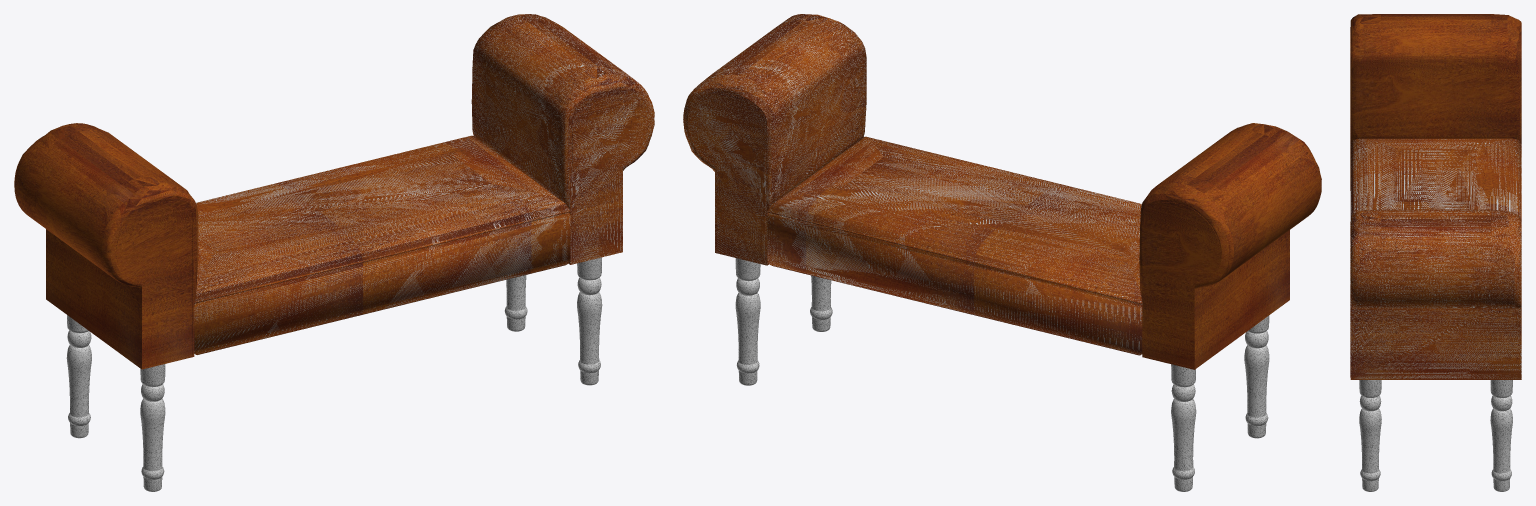
The picture shows the model from 3 angles, left to right: view 1: azimuth 30°, elevation 25°; view 2: azimuth 150°, elevation 25°; view 3: azimuth 270°, elevation 25°; orthographic projection. The views are drawn at different scales.
Visible parts, largest first — view 1: mesh1_mesh1-geometry, mesh2_mesh2-geometry, mesh3_mesh3-geometry, mesh4_mesh4-geometry; view 2: mesh1_mesh1-geometry, mesh2_mesh2-geometry, mesh3_mesh3-geometry, mesh4_mesh4-geometry; view 3: mesh3_mesh3-geometry, mesh2_mesh2-geometry, mesh1_mesh1-geometry, mesh4_mesh4-geometry.
Part boxes in pixels (x1,y1,x2,y2): mesh1_mesh1-geometry: (194, 135, 570, 354); mesh2_mesh2-geometry: (14, 123, 198, 369); mesh3_mesh3-geometry: (471, 14, 654, 264); mesh4_mesh4-geometry: (66, 257, 602, 491); mesh1_mesh1-geometry: (767, 136, 1142, 355); mesh2_mesh2-geometry: (1139, 123, 1321, 369); mesh3_mesh3-geometry: (683, 14, 866, 265); mesh4_mesh4-geometry: (735, 258, 1269, 491); mesh3_mesh3-geometry: (1350, 209, 1521, 379); mesh2_mesh2-geometry: (1350, 14, 1521, 190); mesh1_mesh1-geometry: (1350, 138, 1521, 219); mesh4_mesh4-geometry: (1359, 380, 1512, 491).
Bounding box in the file's own units: 0.8522 × 0.4561 × 0.2564.
